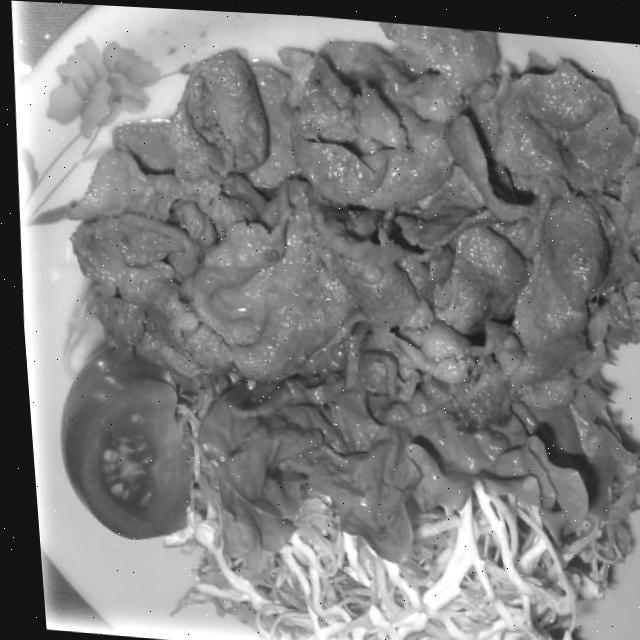猪肉菜式: (32, 4, 640, 633)
